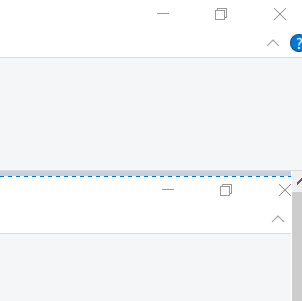close: (265, 3, 295, 26), (272, 179, 292, 199)
